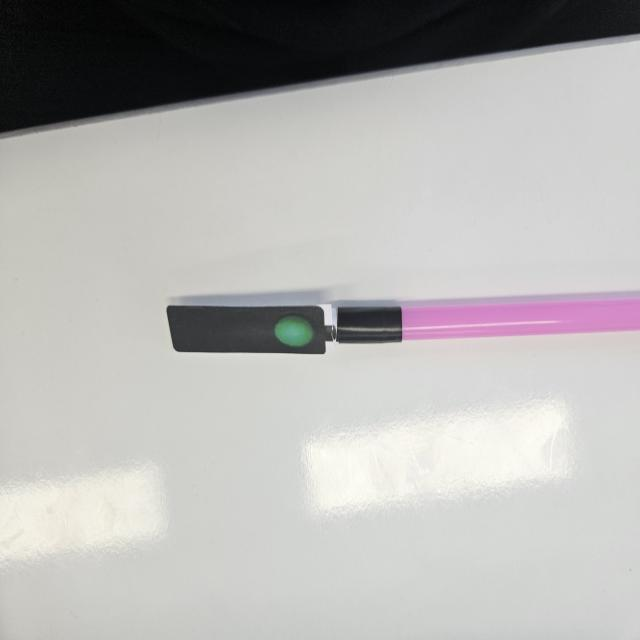traffic light: (166, 304, 338, 358)
